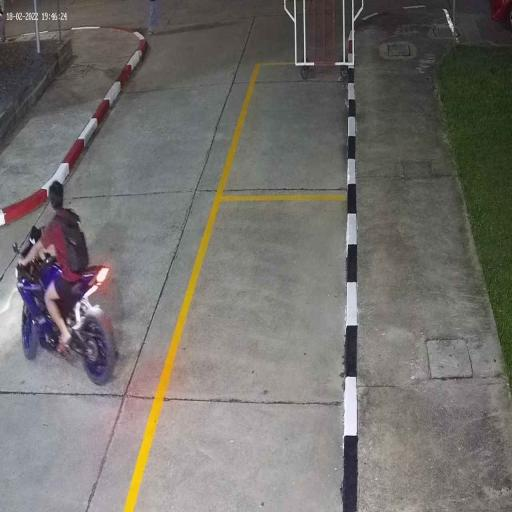motorcycle: (12, 229, 119, 385)
